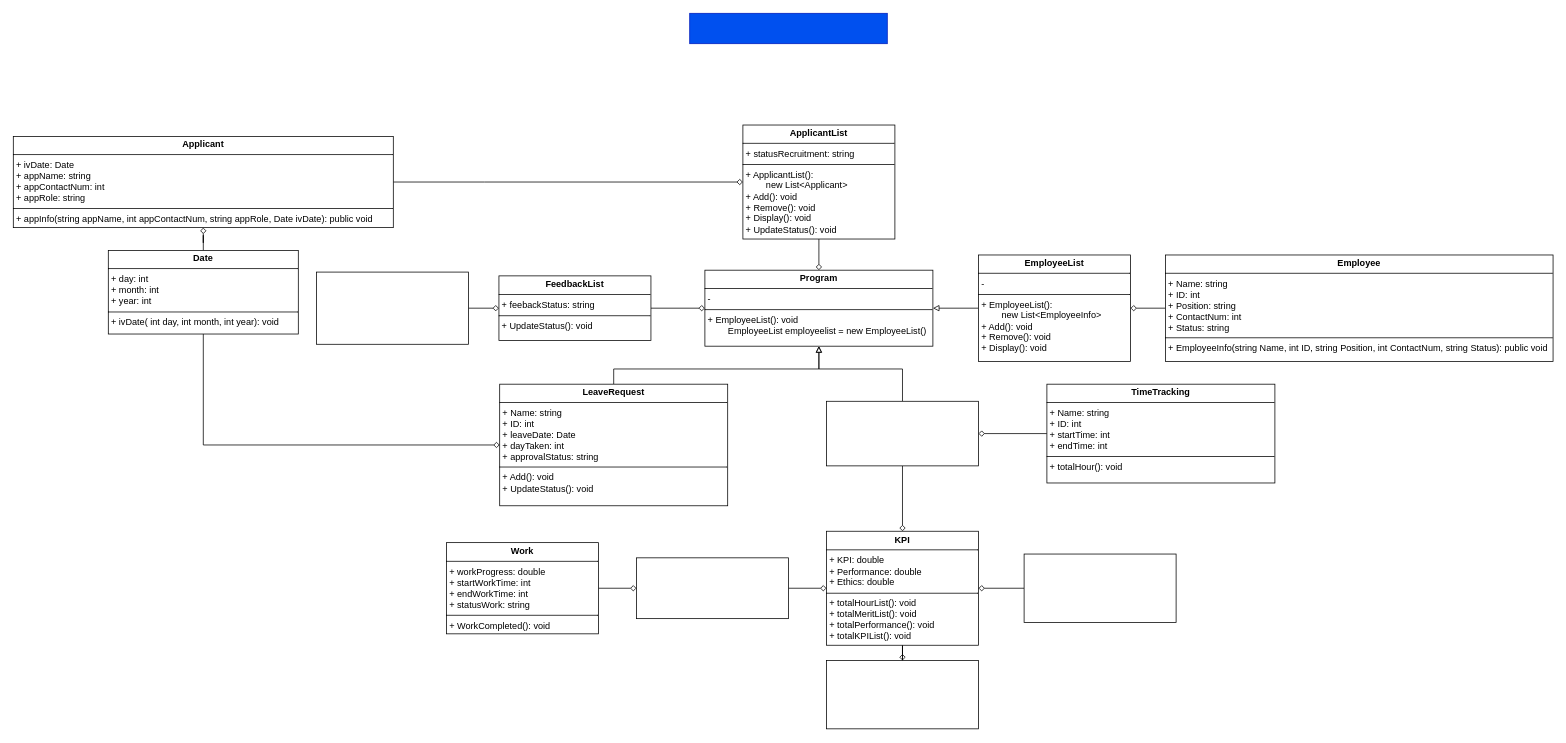
This 1566x743 diagram has some shape labels left out. The shapes that lost their labels are listed below. From the top down, each one's centre as x and y in pixels, then its label:
At (788,28): "HR Management Website".
At (392,307): "Feedback + ID: int + Feedback: string + AddFeedback(): void".
At (902,433): "TimeTrackingList + totalHour: int + totalHourList(): void".
At (712,588): "Performance + workCompleted : int + totalWorkCompleted (): void".
At (1099,587): "Ethics + merit: int + merit List(): void".
At (902,694): "Benefit + paidLeave: double + Bonus: double -".
